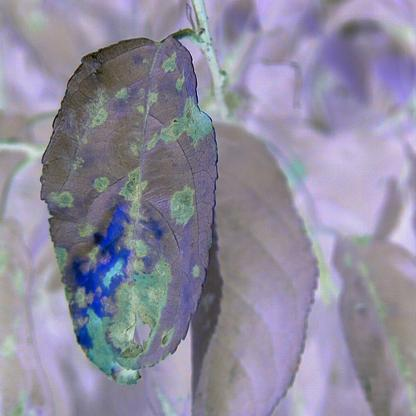Apple Scab Leaf: (36, 21, 227, 385)
